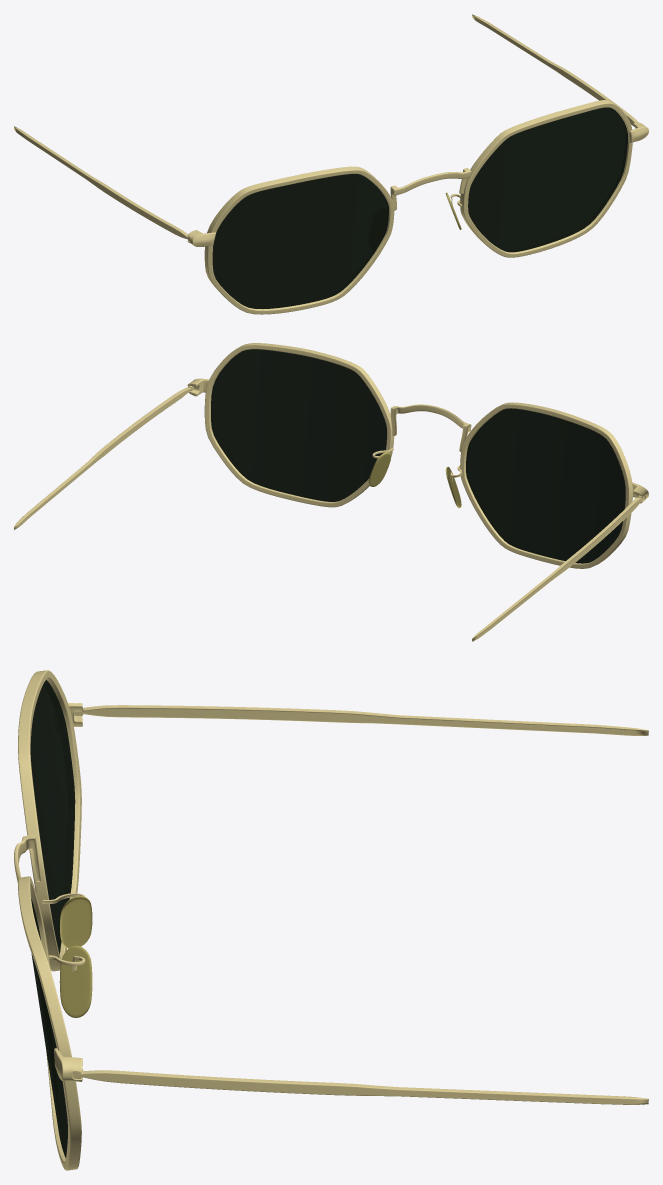
The model's file is octagonal_APP_11072020.glb.
3 renders of one model, top to bottom at view 1: azimuth 30°, elevation 25°; view 2: azimuth 150°, elevation 25°; view 3: azimuth 270°, elevation 25°, orthographic. The views are drawn at different scales.
Visible parts, largest first — view 1: lentes, armacao; view 2: lentes, armacao, ponte; view 3: armacao, lentes, ponte.
Boxes of the visible parts, left/top/right/bottom form: lentes: left=212, top=107, right=627, bottom=309; armacao: left=14, top=14, right=648, bottom=314; lentes: left=211, top=349, right=625, bottom=563; armacao: left=14, top=343, right=648, bottom=641; ponte: left=368, top=452, right=461, bottom=508; armacao: left=14, top=670, right=648, bottom=1170; lentes: left=30, top=680, right=75, bottom=1157; ponte: left=59, top=895, right=92, bottom=1017.
Size of the model in its own units: 0.1586 by 0.0464 by 0.1133.
